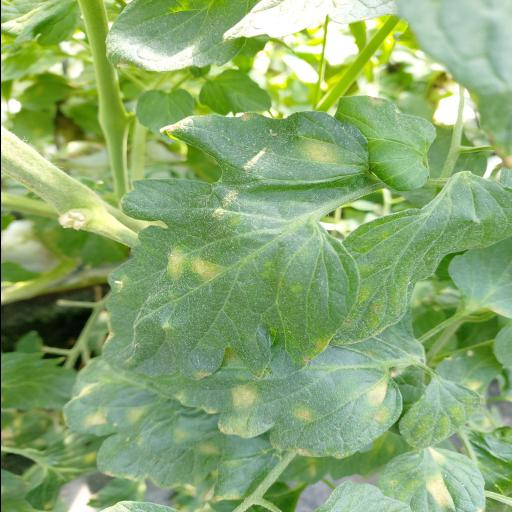Leaf Mold: (100, 112, 374, 382)
